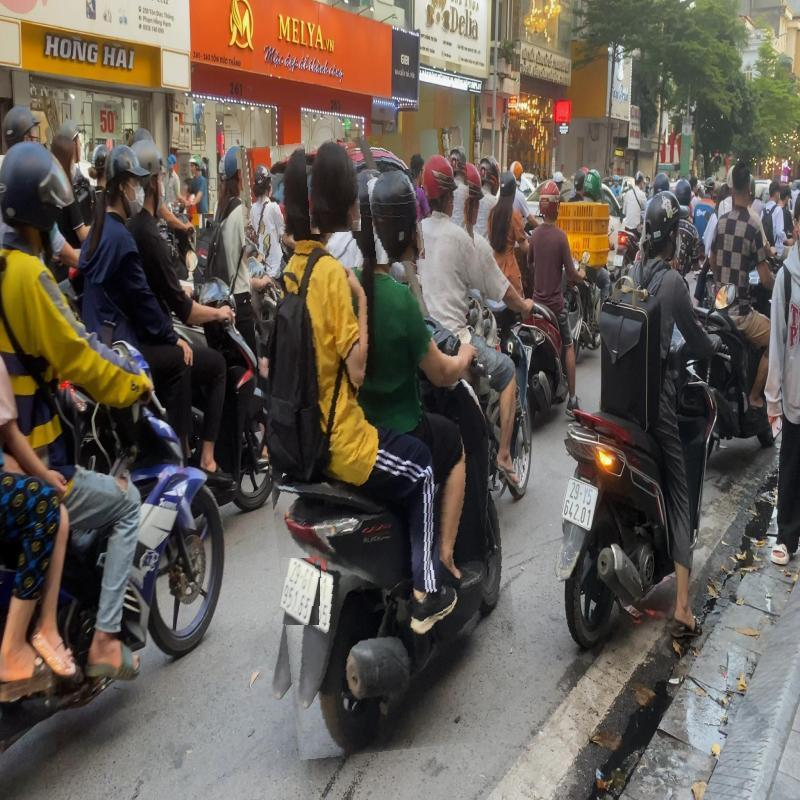helmet: (368, 170, 422, 264)
licenseplate: (280, 558, 321, 626)
motorcyclist: (252, 131, 511, 755)
nohelmet: (306, 138, 360, 234)
